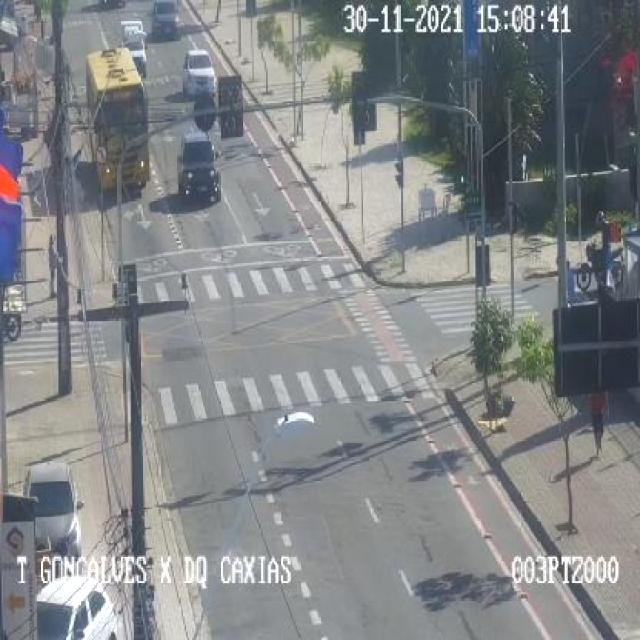Bus: (84, 46, 151, 188)
Car: (175, 130, 222, 203), (179, 48, 219, 100), (146, 0, 180, 43)
